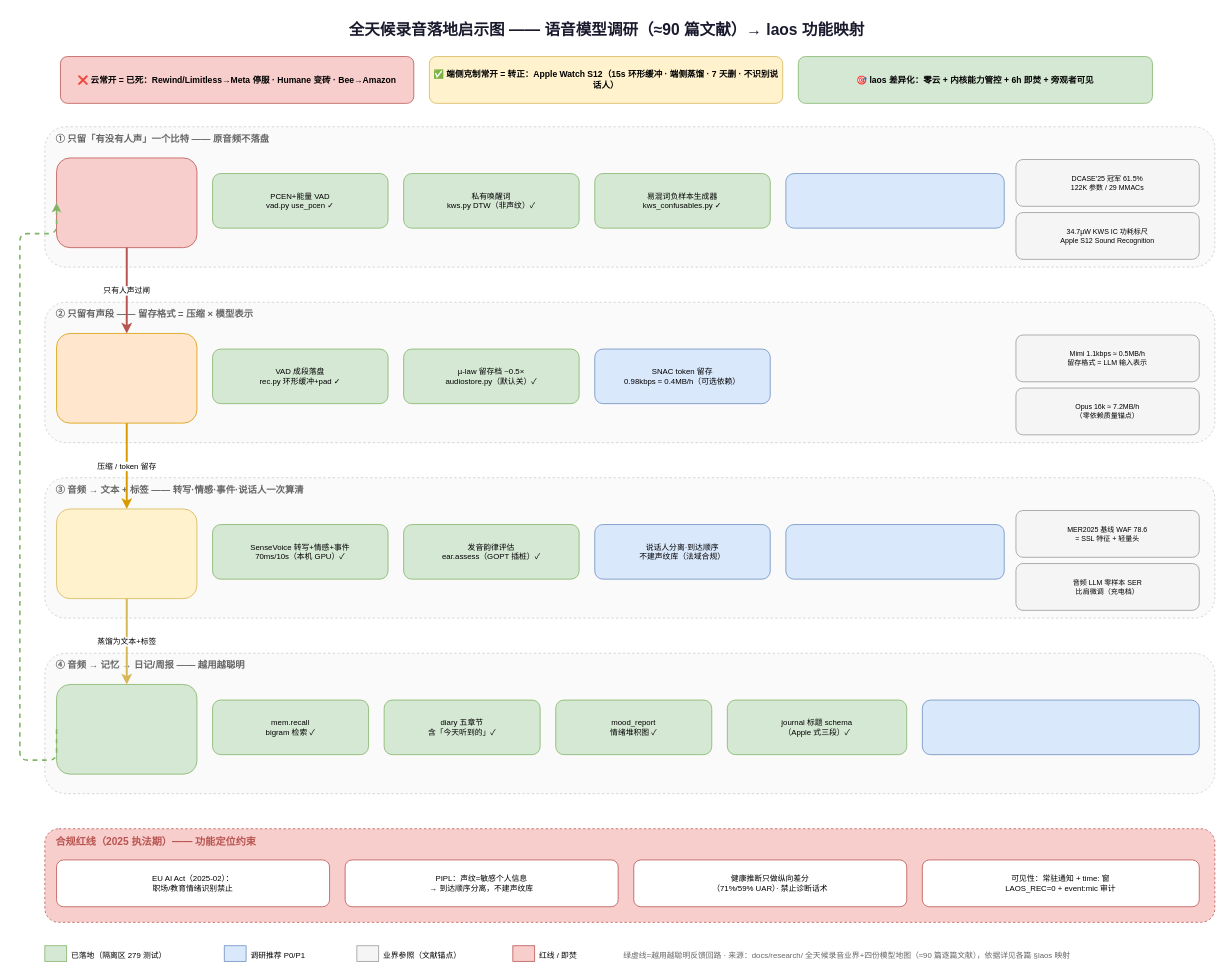
Image size: 1229x975. Some labels were removed from this diagram. Each missing label, with the centre of its shape:
"emotion2vec+ 9 类·周报 音频 LLM 充电档（P2）" goes at [894,551].
"TTS 回复 Kokoro-82M + AudioSeal 水印 · 发音练习曲线纵向差分（P2）" goes at [1060,727].
"① 常驻检测 µW–mW 级 P0 / P1" goes at [126,202].
"② 触发捕获 mW 级 · P0" goes at [126,378].
"③ 即时蒸馏 GPU/AP · P0/P1" goes at [126,553].
"④ 留存与消费 6h 即焚 P0 / P2" goes at [126,729].
"声学事件白名单：哭声/警报/门铃 YAMNet 级蒸馏 → /events（P1）" goes at [894,200].
